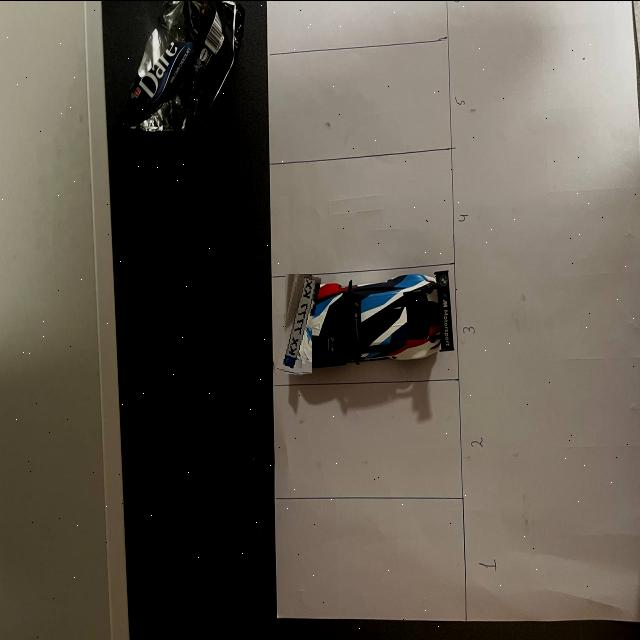KX 7777 KX: (277, 272, 321, 373)
